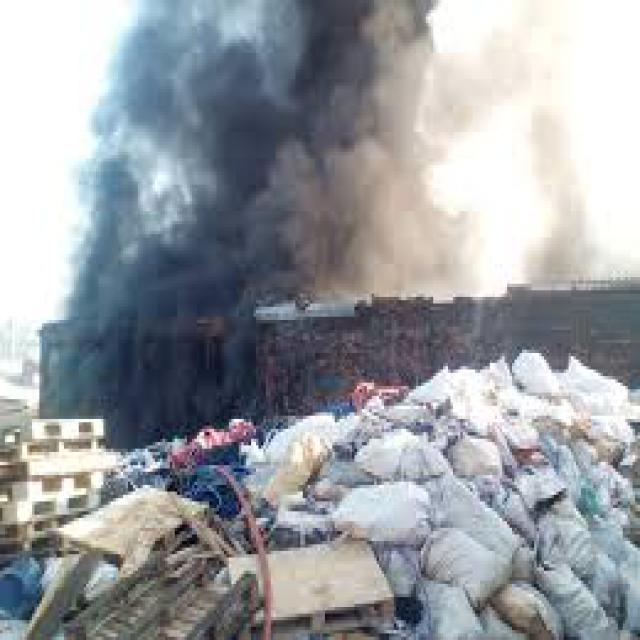smoke: (84, 3, 406, 429)
